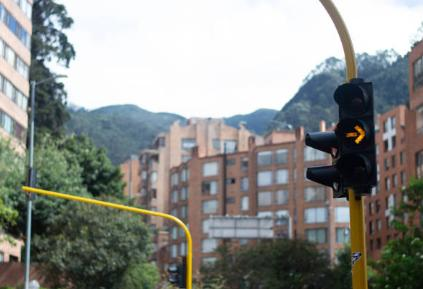yellow_light: (333, 82, 377, 189)
